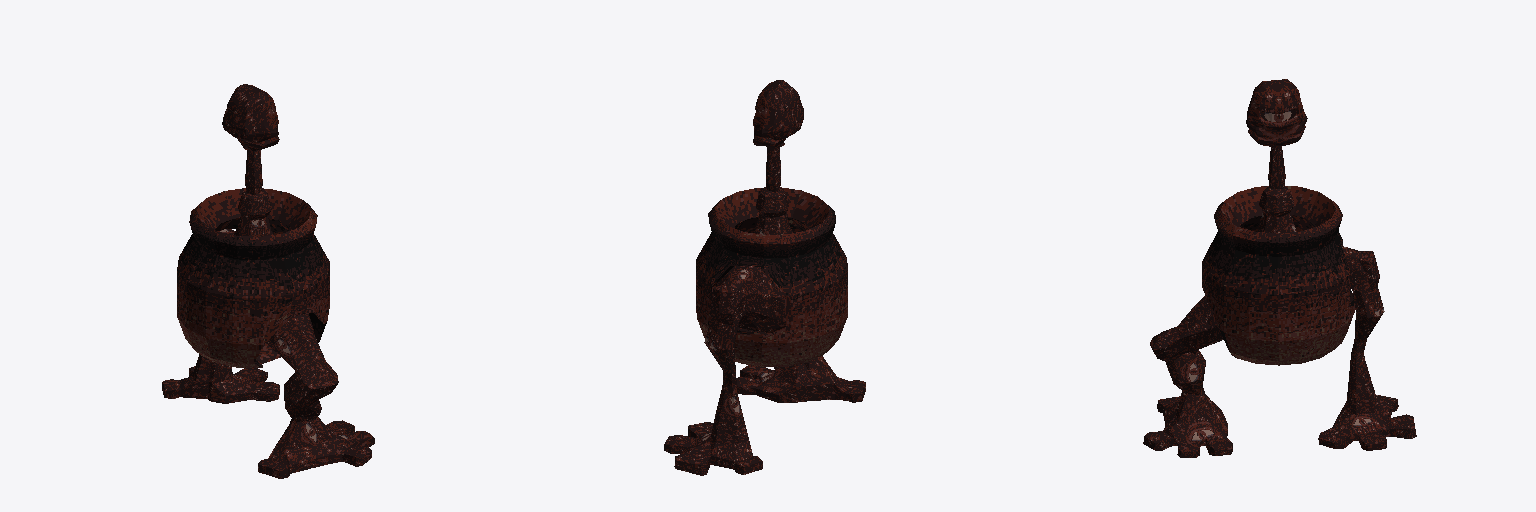
The picture shows the model from 3 angles: view 1: azimuth 30°, elevation 25°; view 2: azimuth 150°, elevation 25°; view 3: azimuth 270°, elevation 25°; orthographic projection.
Visible parts, largest first — view 1: Pot_cracked_sep15, Pot_cracked_sep14, Pot_cracked_sep13, Pot_cracked_cut16; view 2: Pot_cracked_sep15, Pot_cracked_sep14, Pot_cracked_sep13, Pot_cracked_cut16; view 3: Pot_cracked_sep15, Pot_cracked_sep14, Pot_cracked_sep13, Pot_cracked_cut16.
Part boxes in pixels (bbox=[...]): Pot_cracked_sep15: bbox=[177, 188, 329, 367]; Pot_cracked_sep14: bbox=[162, 190, 374, 478]; Pot_cracked_sep13: bbox=[222, 84, 279, 150]; Pot_cracked_cut16: bbox=[245, 150, 262, 194]; Pot_cracked_sep15: bbox=[696, 187, 847, 366]; Pot_cracked_sep14: bbox=[664, 187, 865, 475]; Pot_cracked_sep13: bbox=[753, 80, 803, 147]; Pot_cracked_cut16: bbox=[766, 147, 780, 192]; Pot_cracked_sep15: bbox=[1202, 186, 1355, 365]; Pot_cracked_sep14: bbox=[1143, 187, 1416, 457]; Pot_cracked_sep13: bbox=[1246, 79, 1307, 146]; Pot_cracked_cut16: bbox=[1268, 146, 1285, 188].
Bounding box in the file's own units: 2.7 × 6.32 × 4.57.
Materials: 2 (2 with a texture image).